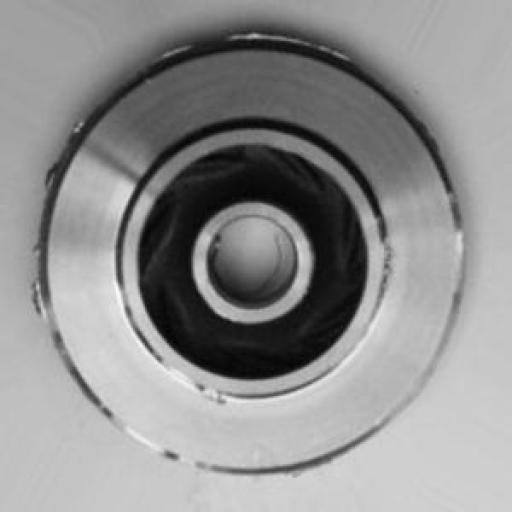defect: (30, 26, 474, 474)
